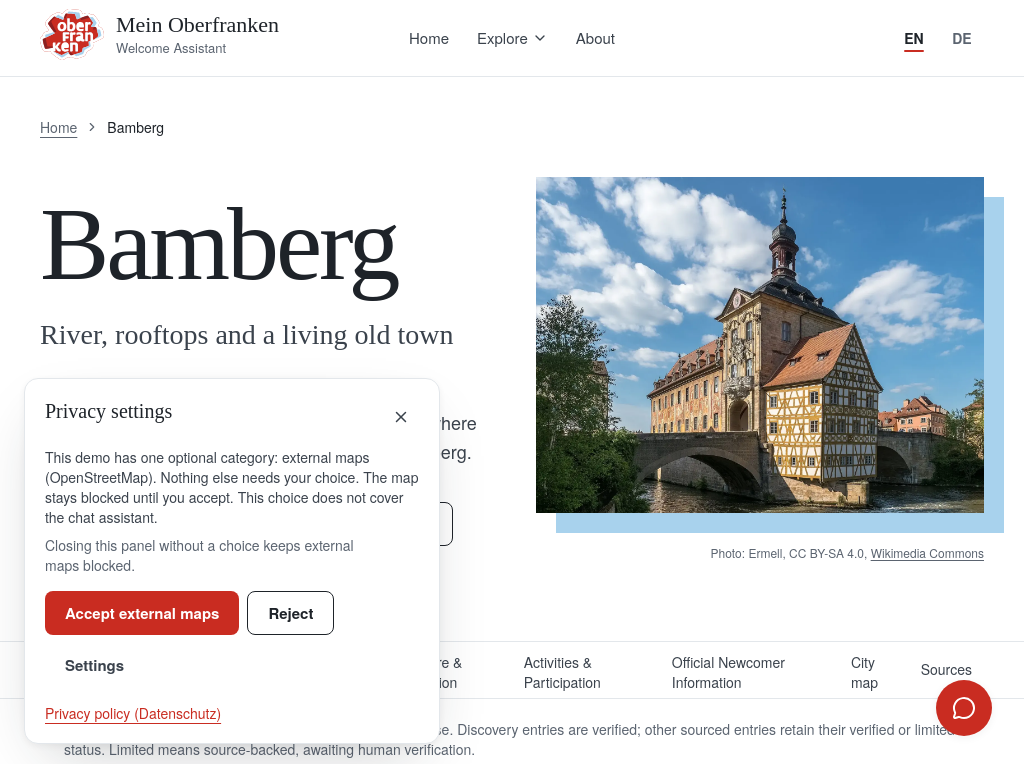
Test: sourced pilot page: bamberg › renders sourced sections with real dates and limited labels in de
The width and height of the screenshot is (1024, 764).
What coordinates should you click on to do the following:
click the button with aria-label "Deutsch"
I would click on:
 (962, 38)
Its box is [940,16,984,60].
(page scrolled)
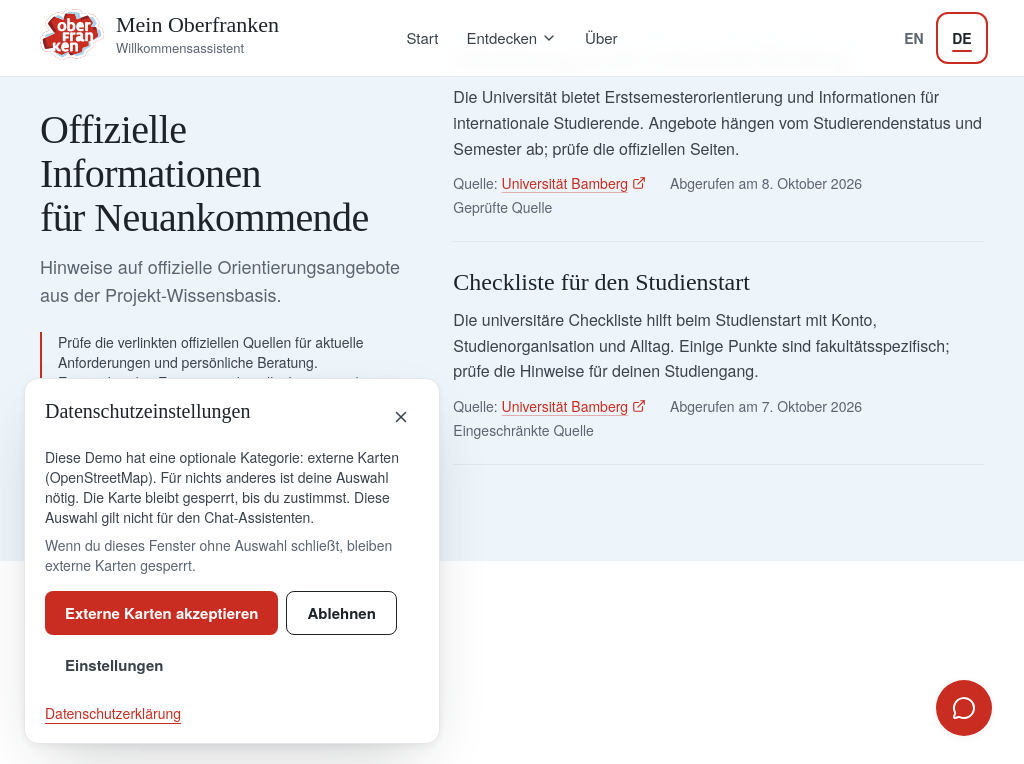
expect the text "Die Universität bietet Erstsemesterorientierung und Informationen für internationale Studierende. Angebote hängen vom St" is shown: met, box [453,86,982,160]
expect the text "Abgerufen am 8. Oktober 2026" is shown: met, box [670,173,862,193]
expect the text "Geprüfte Quelle" is shown: met, box [453,197,552,217]
